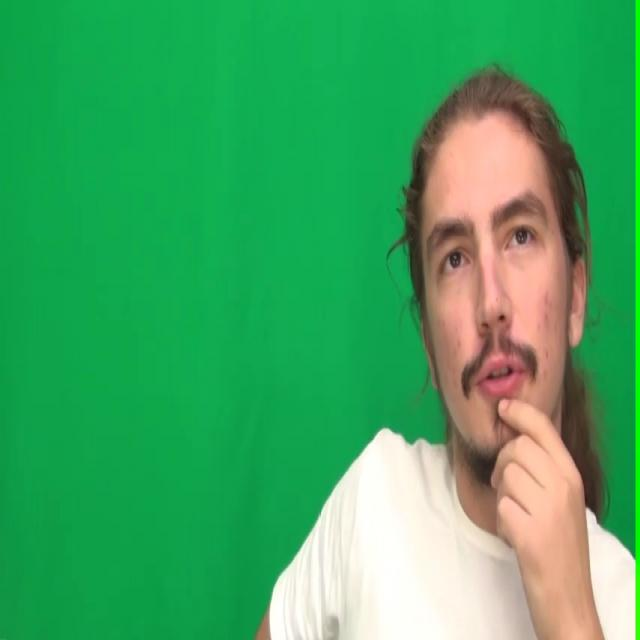Engaged: (421, 110, 566, 462)
